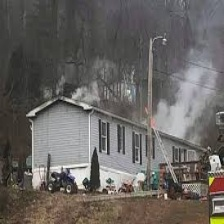smoke: (163, 69, 208, 128)
